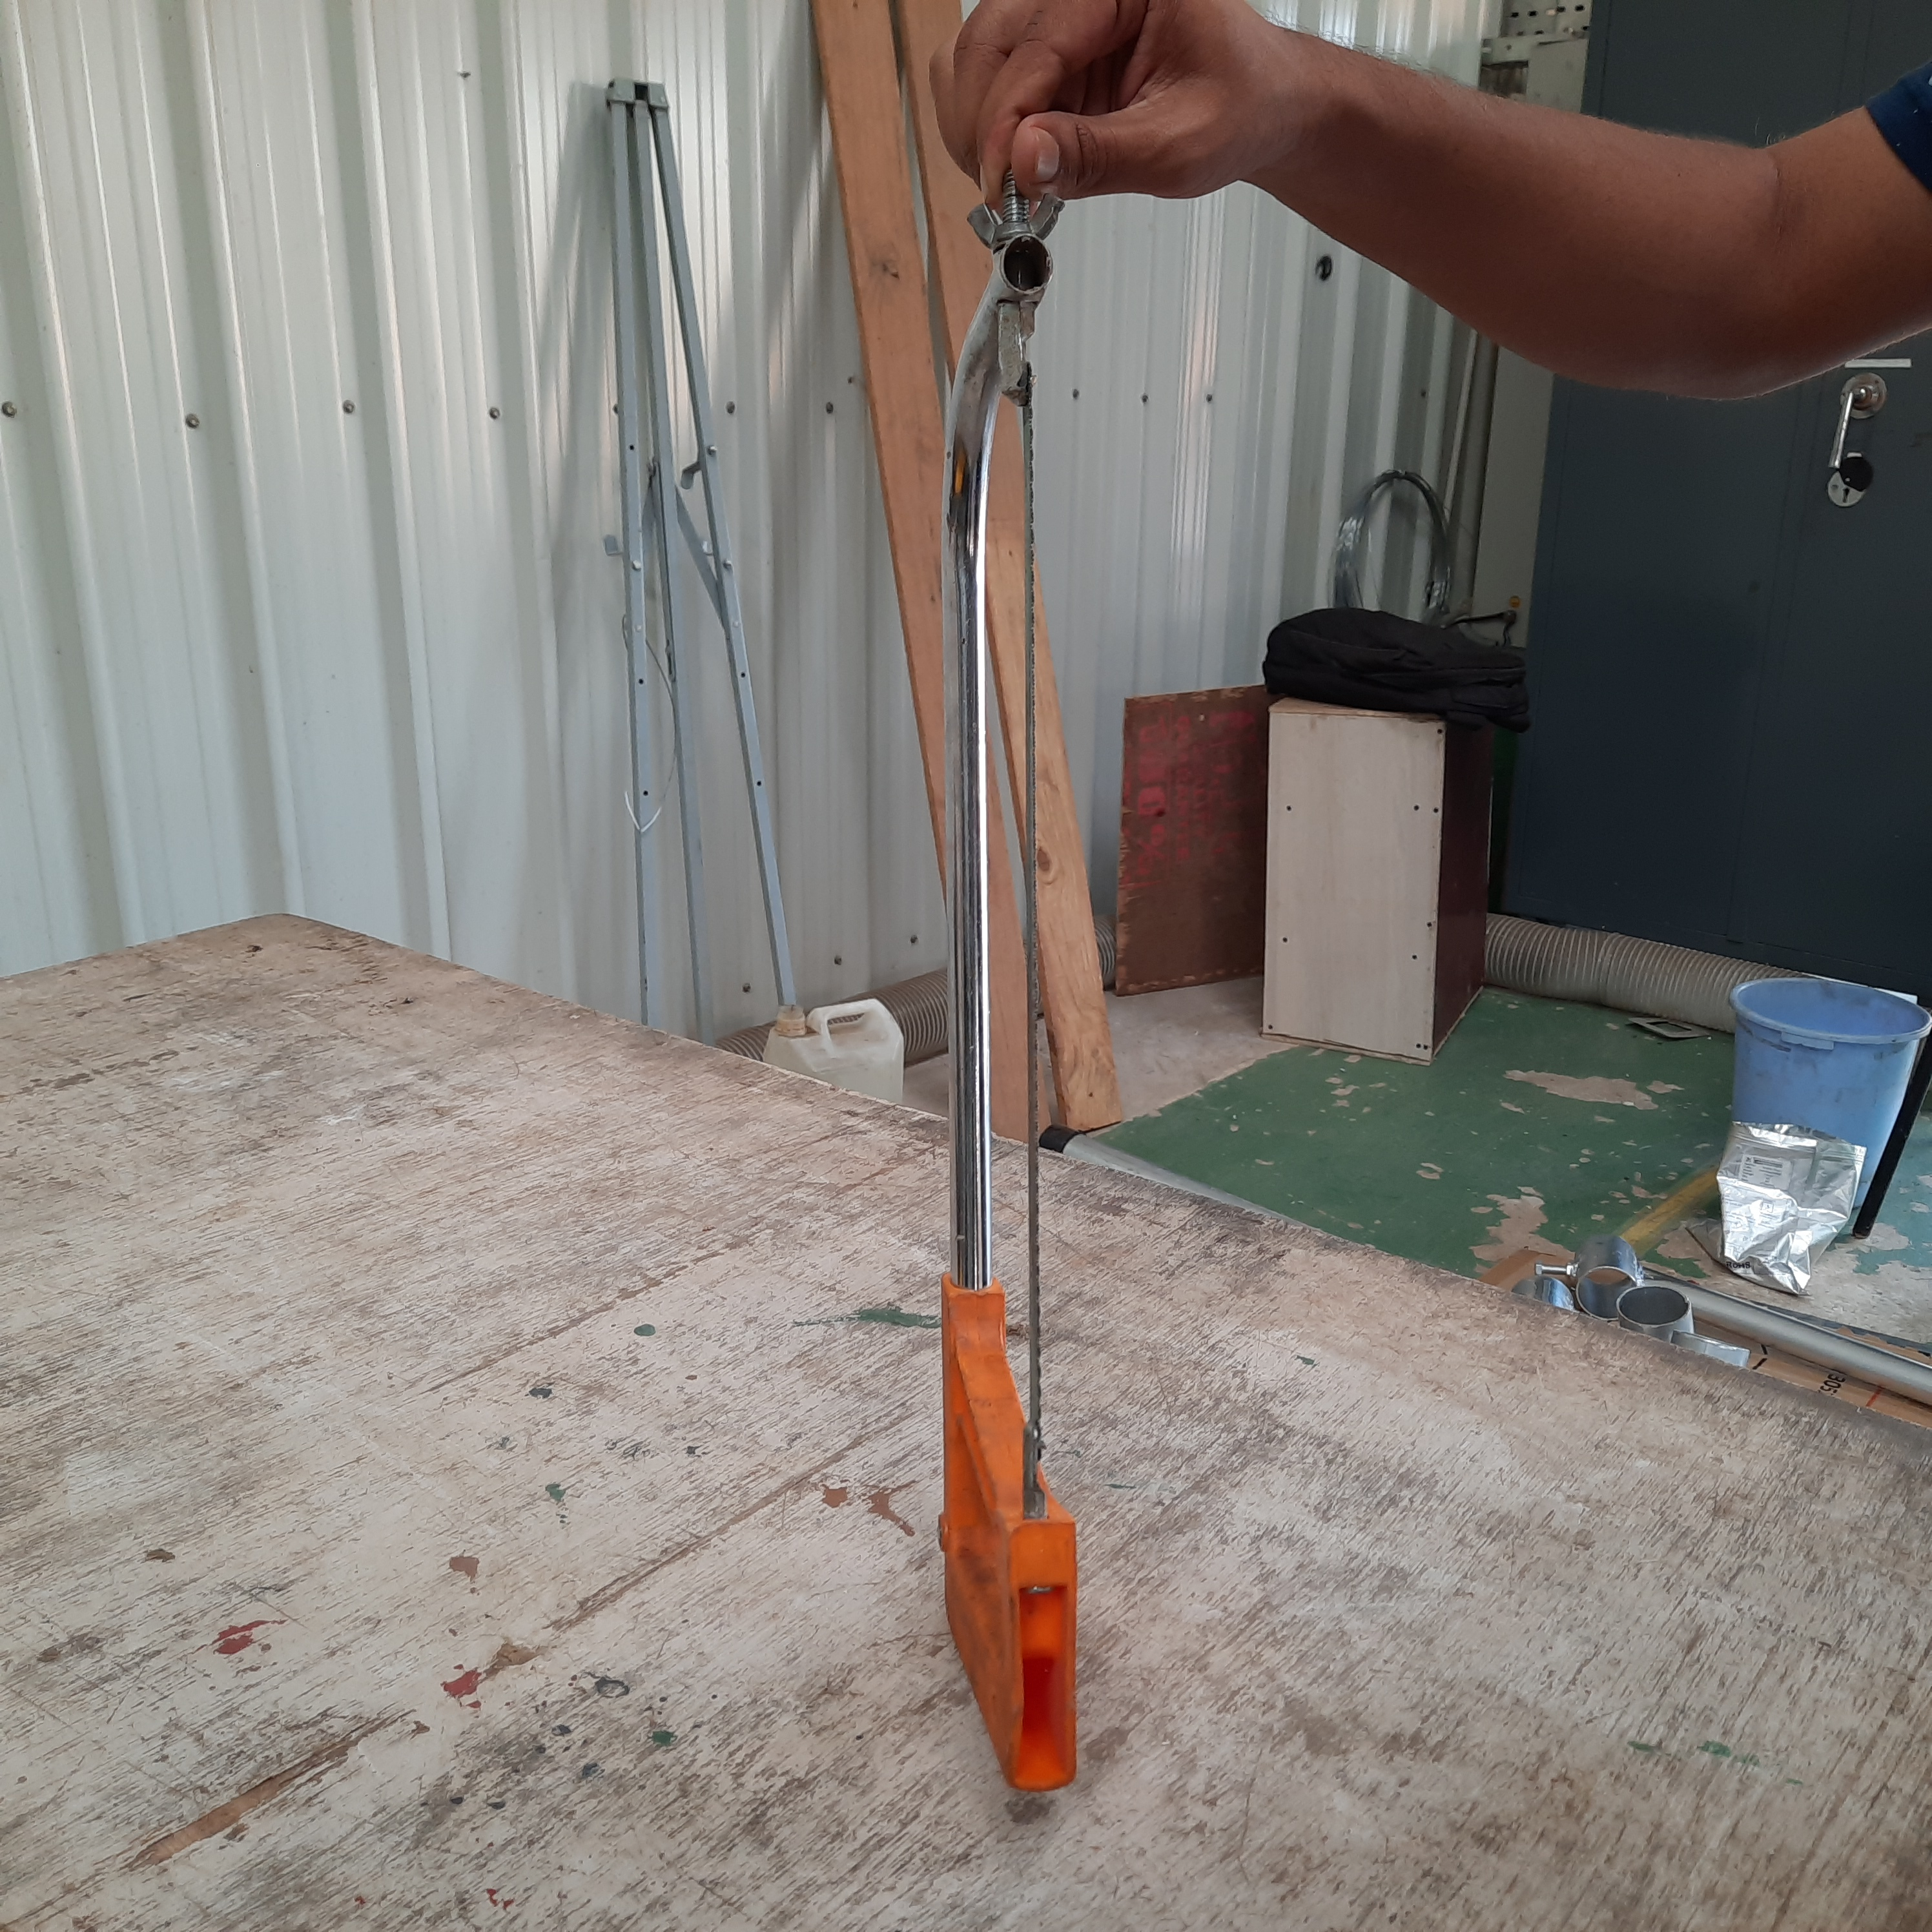Hexaframe: (901, 161, 1145, 1790)
